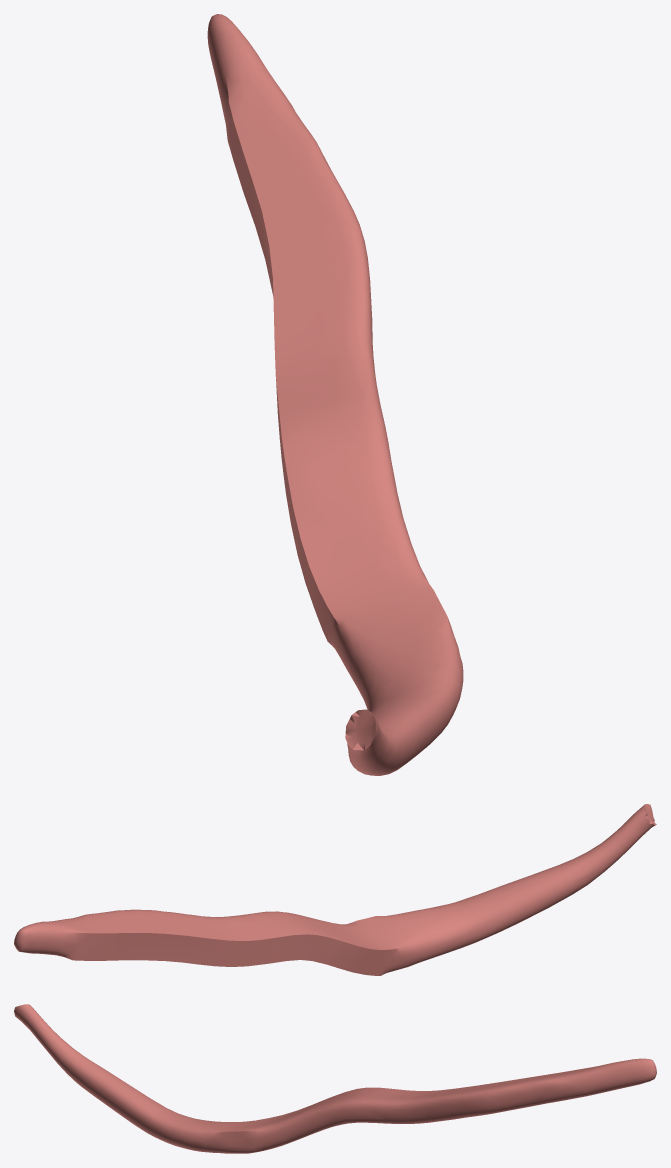
Rendered from fma37717_mm1743m.glb.
3 views of the same model, one above another, from view 1: azimuth 30°, elevation 25°; view 2: azimuth 150°, elevation 25°; view 3: azimuth 270°, elevation 25° (orthographic). The views are drawn at different scales.
Parts seen in each view (by area): view 1: FMA37717_MM1743M; view 2: FMA37717_MM1743M; view 3: FMA37717_MM1743M.
Boxes of the visible parts, x1,y1,x2,y2 form: FMA37717_MM1743M: (207,14,463,775); FMA37717_MM1743M: (14,804,656,975); FMA37717_MM1743M: (14,1004,656,1153).
Size of the model in its own units: 0.0383 by 0.022 by 0.0834.
